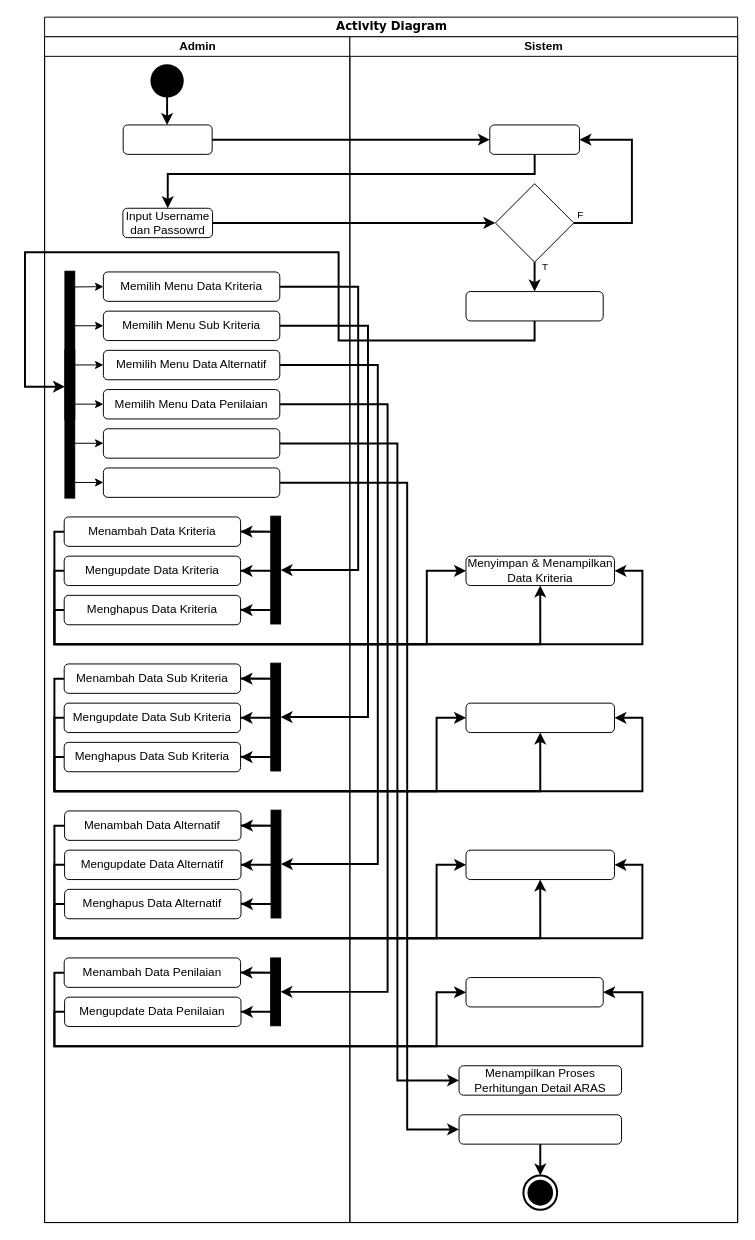
Some shapes in this 755 by 1240 pixel diagram are drawn without their labels. Here are the shapes that lost their labels. From the top down, the centre of each, then its label:
[167,139]: Buka Aplikasi
[534,139]: Menampilkan Form Login
[534,222]: Valid ?
[534,306]: Menampilan Menu Utama
[191,443]: Memilih Menu Data Perhitungan
[191,482]: Memilih Menu Hasil Akhir
[539,717]: Menyimpan & Menampilkan Data Sub Kriteria
[539,864]: Menyimpan & Menampilkan Data Alternatif
[534,992]: Menyimpan Data Penilaian
[540,1129]: Menampilkan Hasil Akhir Perangkingan
